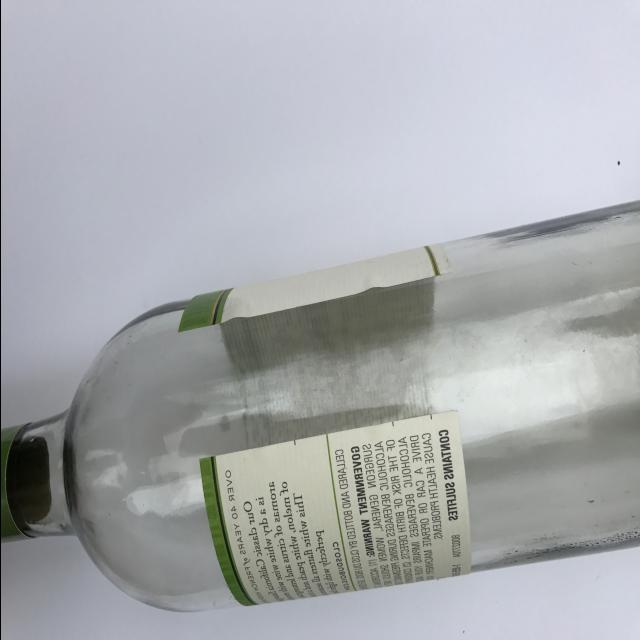glass: (0, 202, 639, 609)
